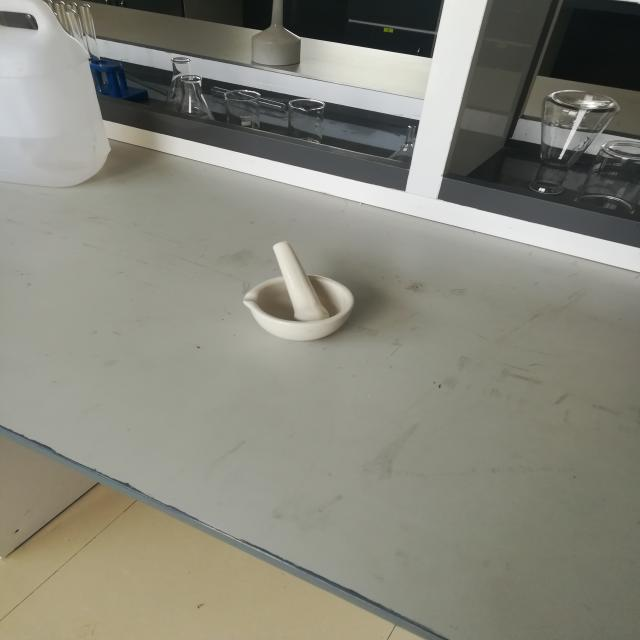Porcelain_Mortar Pestle: (239, 221, 384, 362)
